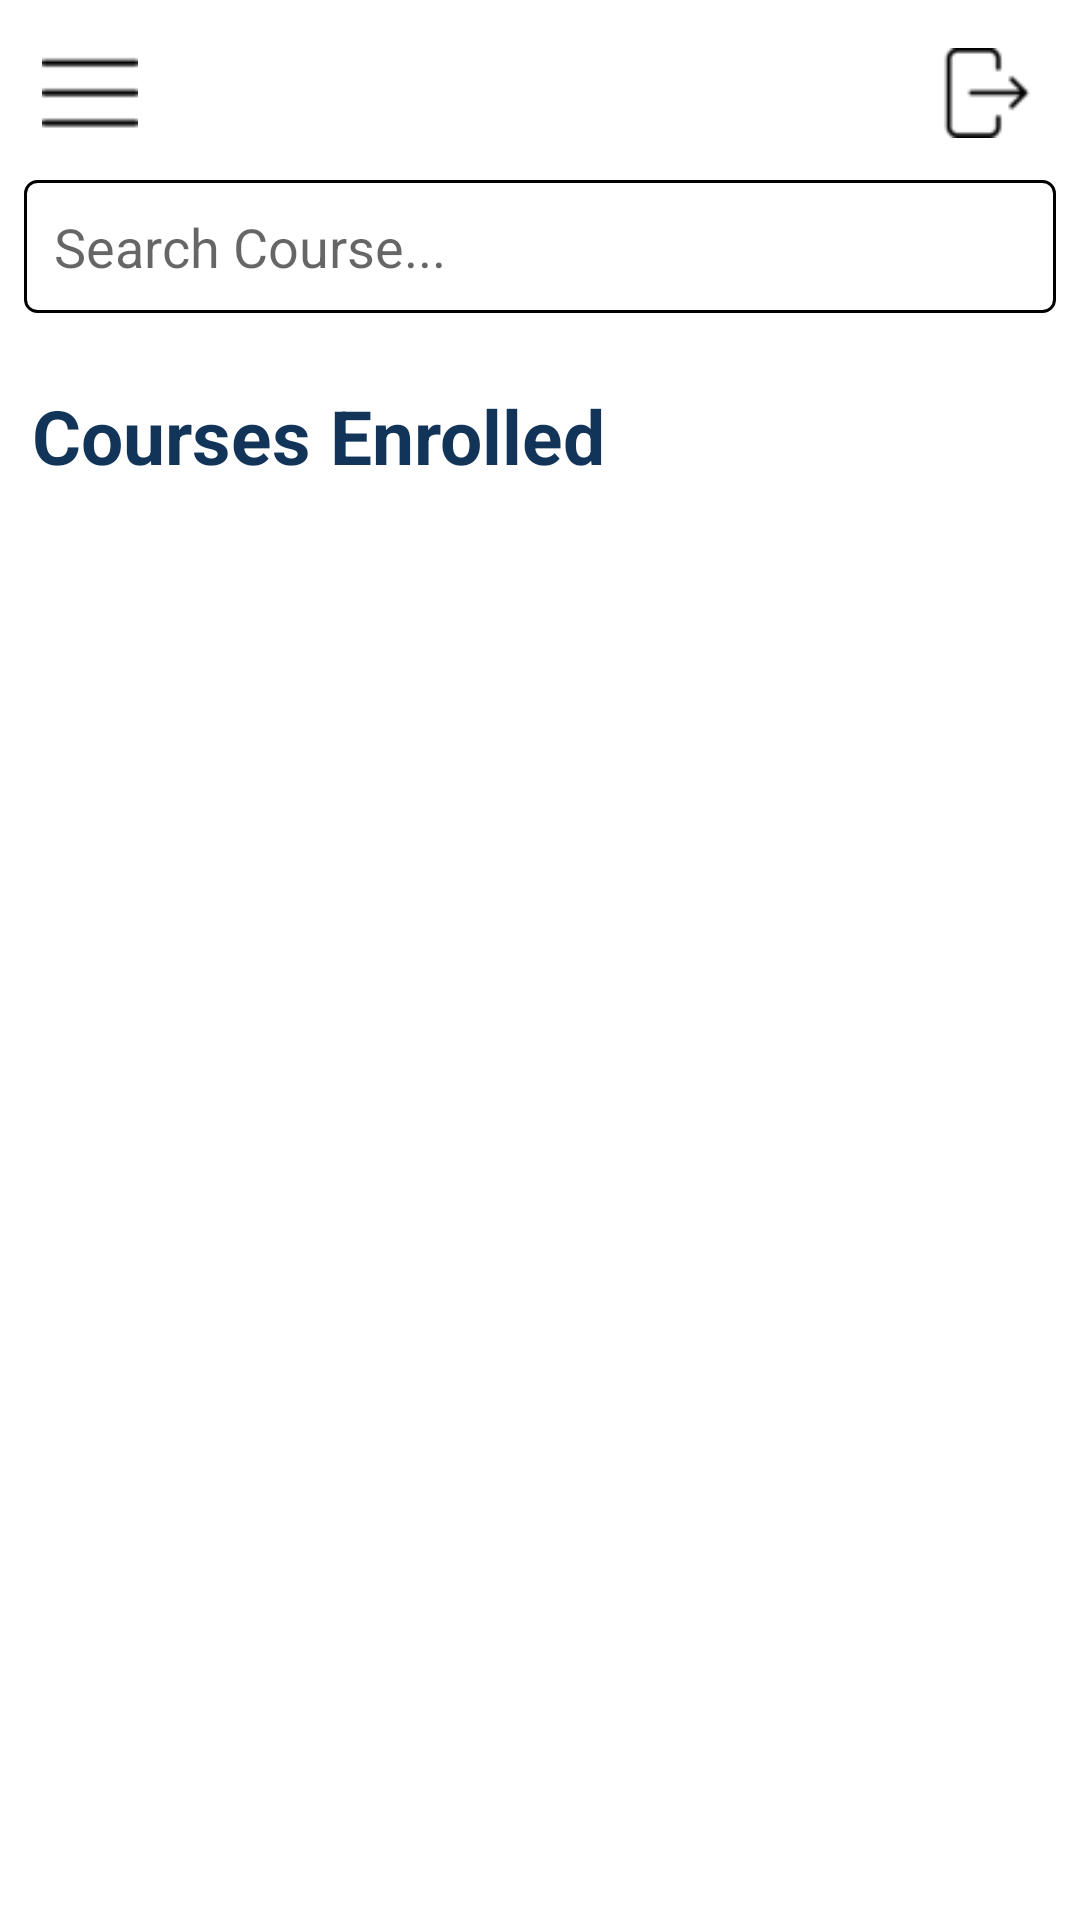

Icon click points for this 1080 x 1920 phone screenshot, format point (x, y):
hamburger: point (90, 93)
